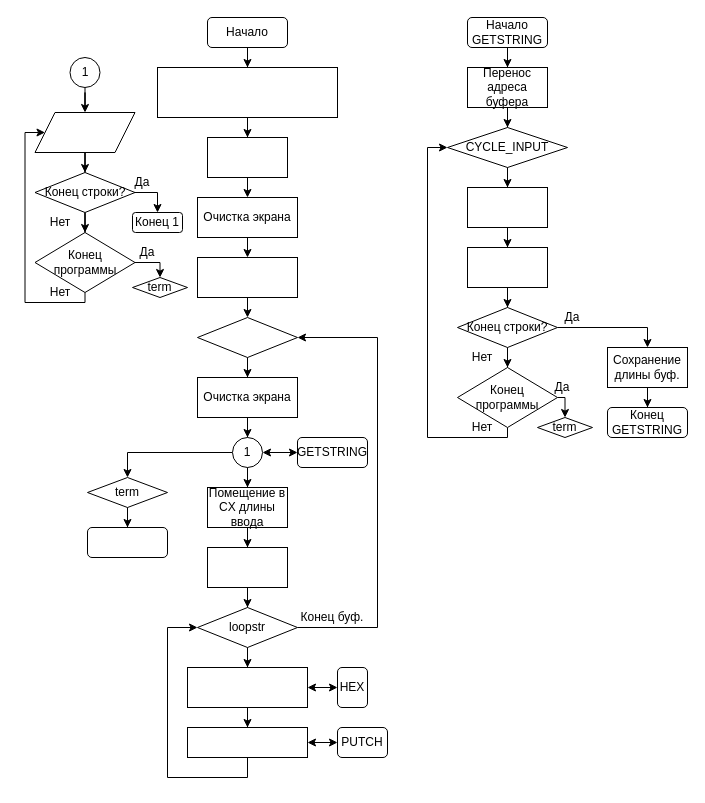
The diagram is 705 pixels wide and 803 high, and some of its shapes have lost their labels. Each missing label, with the centre of its shape:
"loopmain" belongs at point (247, 337).
"Ввод строки в буфер" belongs at point (84, 132).
"Вывод кода, пробела" belongs at point (247, 742).
"Вывод оформления" belongs at point (247, 567).
"Вывод приветственного сообщения" belongs at point (247, 277).
"Вывод символа" belongs at point (507, 267).
"Загрузка регистров" belongs at point (247, 157).
"Конец" belongs at point (127, 542).
"Объявление переменных сообщений и буфера" belongs at point (247, 92).
"Получение символа в буф." belongs at point (507, 207).
"Получение шестнадцатеричного кода символа" belongs at point (247, 687).
